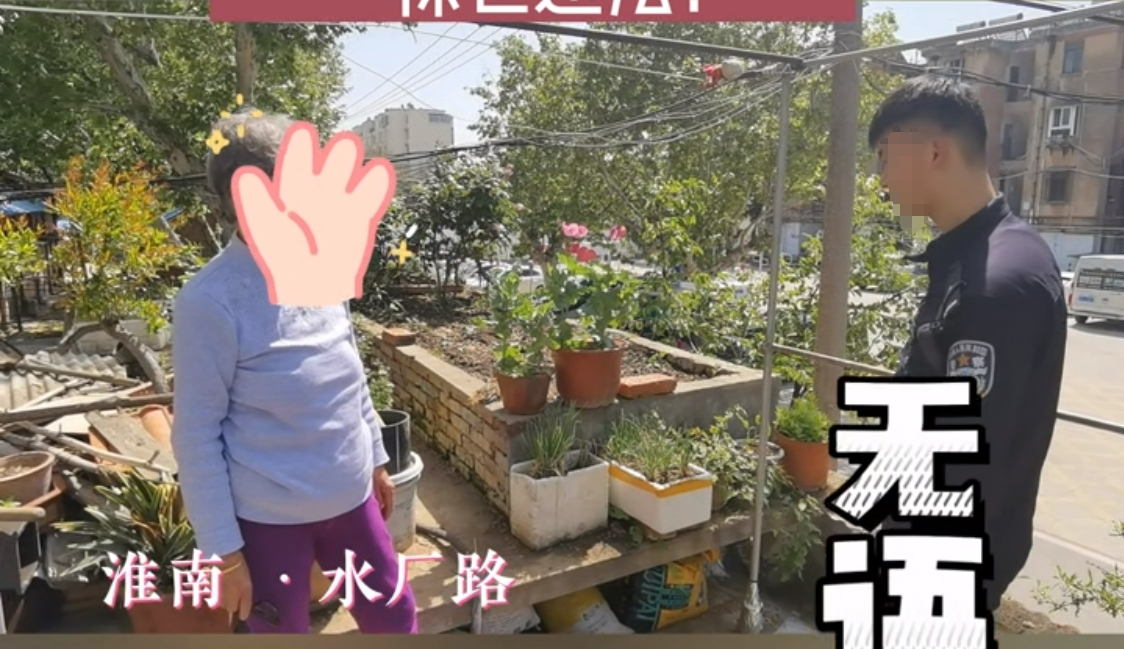Poppy: (493, 211, 649, 422)
